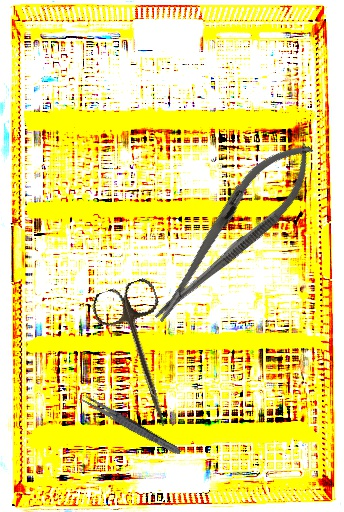Dressing Forceps: (77, 392, 184, 458)
Iris Scissors: (88, 275, 198, 436)
Needle Holder: (136, 127, 329, 337)
